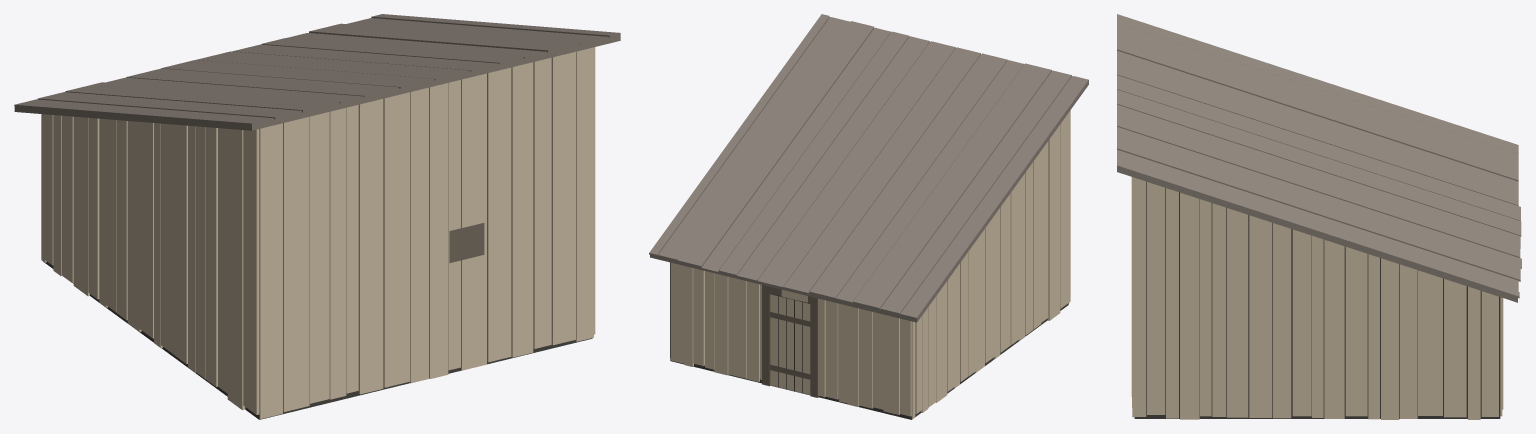
File: recon_1835_blk_randolph_franklin_d2_05__inferred_1835.glb
3 renders of one model, left to right at view 1: azimuth 30°, elevation 25°; view 2: azimuth 150°, elevation 25°; view 3: azimuth 270°, elevation 25°, orthographic. The views are drawn at different scales.
Visible parts, largest first — view 1: recon_1835_blk_randolph_franklin_d2_05__inferred_1835; view 2: recon_1835_blk_randolph_franklin_d2_05__inferred_1835; view 3: recon_1835_blk_randolph_franklin_d2_05__inferred_1835.
Part boxes in pixels (<box>): recon_1835_blk_randolph_franklin_d2_05__inferred_1835: <box>14,14,620,419</box>; recon_1835_blk_randolph_franklin_d2_05__inferred_1835: <box>649,14,1088,419</box>; recon_1835_blk_randolph_franklin_d2_05__inferred_1835: <box>1117,14,1521,419</box>.
Size of the model in its own units: 5.66 by 4.53 by 6.37.
